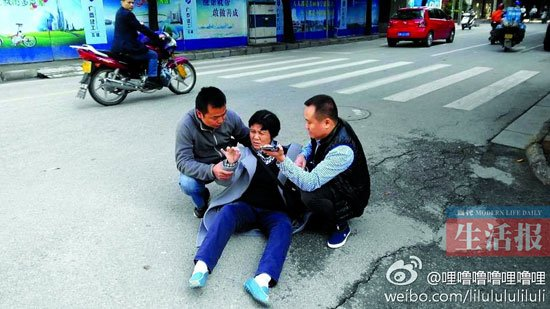fall: (183, 105, 308, 307)
